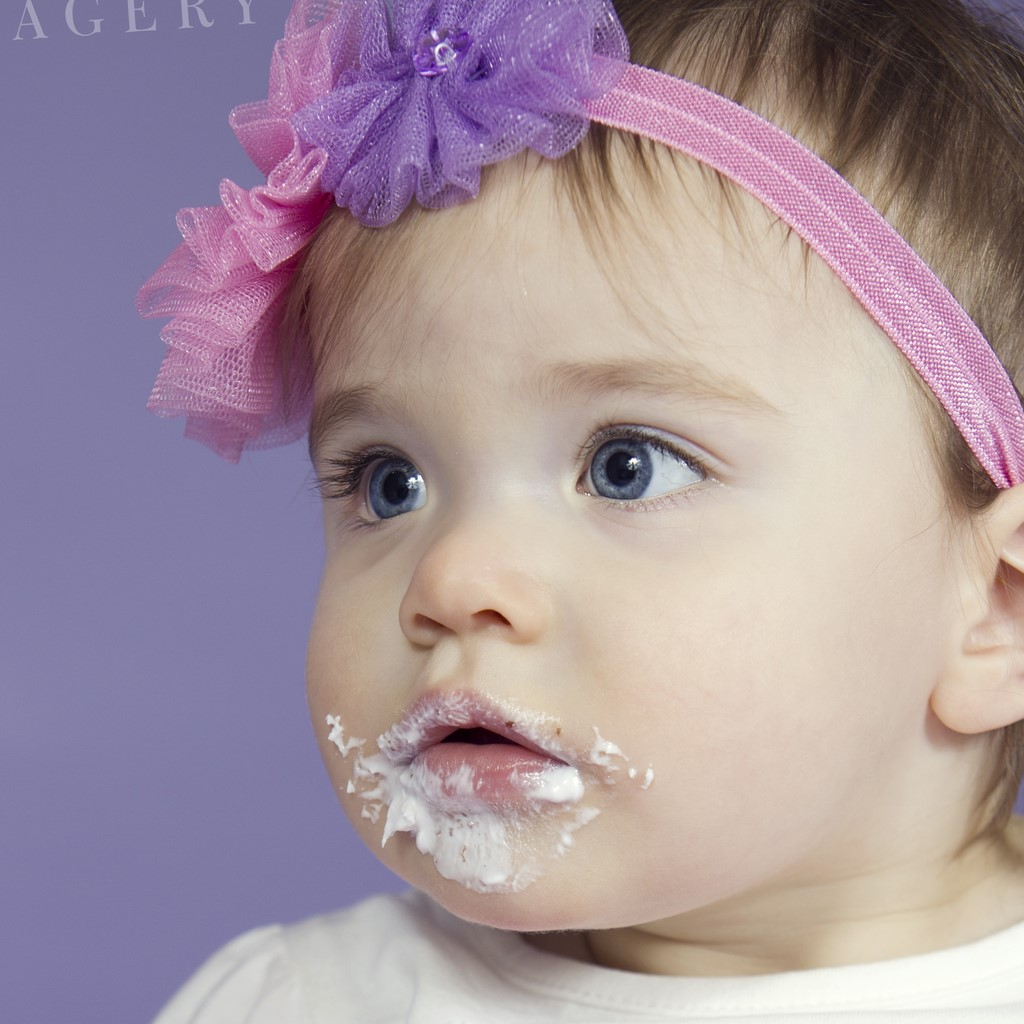sin_mascara: (281, 93, 1024, 940)
